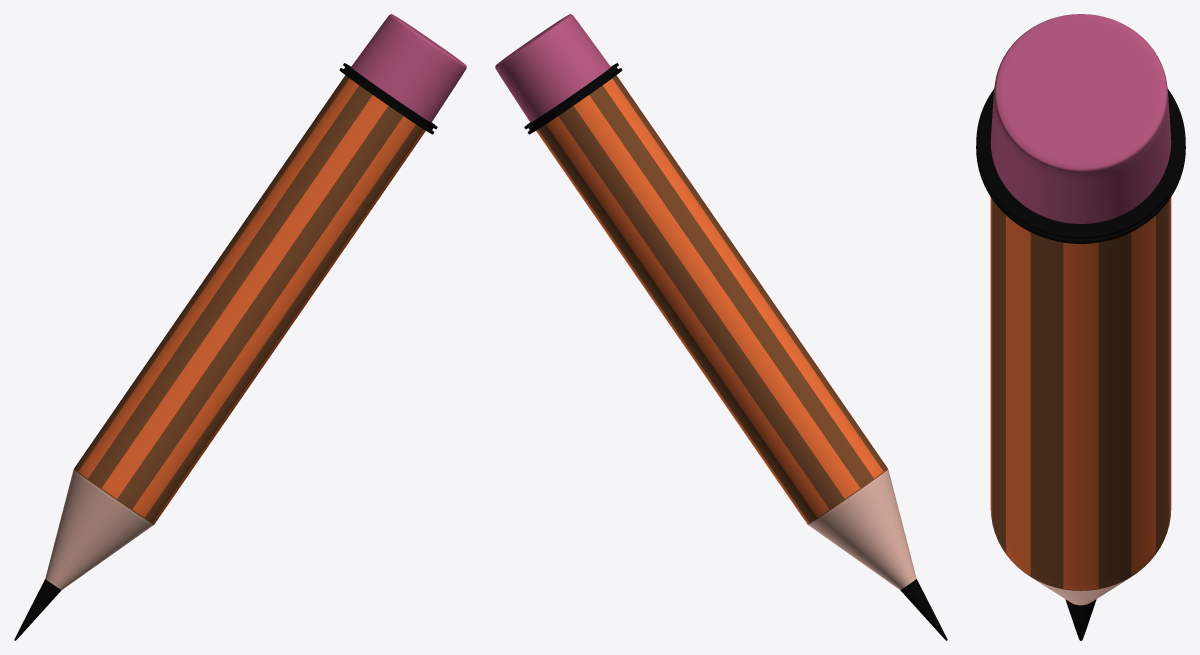
Rendered from pencil.glb.
The picture shows the model from 3 angles, left to right: view 1: azimuth 30°, elevation 25°; view 2: azimuth 150°, elevation 25°; view 3: azimuth 270°, elevation 25°; orthographic projection. The views are drawn at different scales.
Parts seen in each view (by area): view 1: Cylinder, Cylinder.002, Cylinder.001; view 2: Cylinder, Cylinder.002, Cylinder.001; view 3: Cylinder, Cylinder.002, Cylinder.001.
Part boxes in pixels (x1=…): Cylinder: x1=14, y1=75, x2=425, y2=640; Cylinder.002: x1=351, y1=14, x2=466, y2=122; Cylinder.001: x1=339, y1=63, x2=437, y2=134; Cylinder: x1=536, y1=75, x2=947, y2=640; Cylinder.002: x1=495, y1=14, x2=610, y2=122; Cylinder.001: x1=524, y1=63, x2=622, y2=134; Cylinder: x1=990, y1=197, x2=1171, y2=640; Cylinder.002: x1=990, y1=14, x2=1171, y2=223; Cylinder.001: x1=976, y1=89, x2=1185, y2=243.
Size of the model in its own units: 1.53 by 1.73 by 0.3385.
